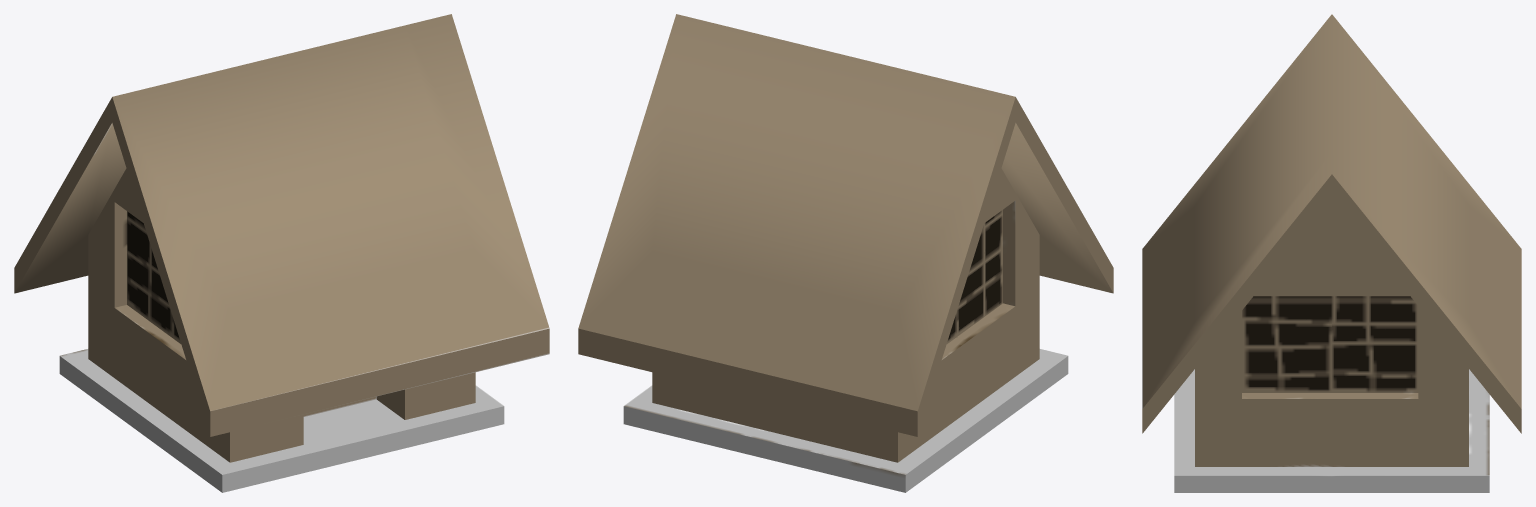
Rendered from Cabin.fbx.
3 views of the same model, side by side, from view 1: azimuth 30°, elevation 25°; view 2: azimuth 150°, elevation 25°; view 3: azimuth 270°, elevation 25° (orthographic). The views are drawn at different scales.
Parts seen in each view (by area): view 1: Cabin_Body; view 2: Cabin_Body; view 3: Cabin_Body.
Boxes of the visible parts, box(x1,y1,x2,y2) form: Cabin_Body: box(14, 14, 549, 492); Cabin_Body: box(578, 14, 1113, 492); Cabin_Body: box(1142, 14, 1521, 492).
Size of the model in its own units: 3.03 by 2.93 by 3.03.
